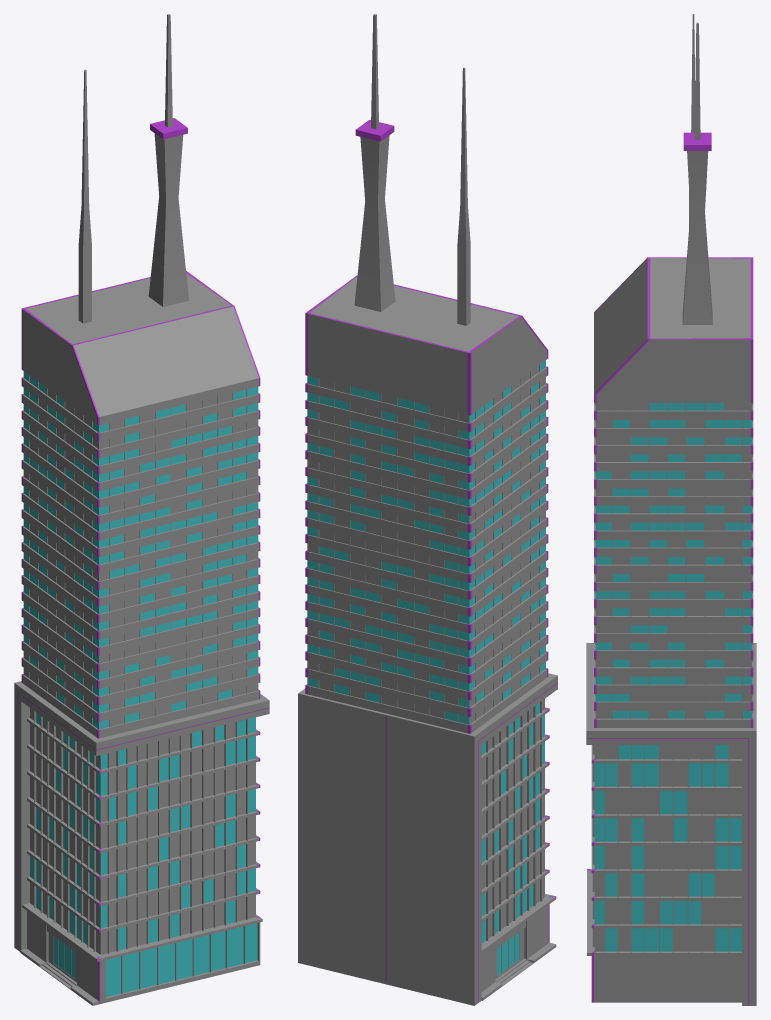
Rendered from BuildingL_01_var3.fbx.
3 renders of one model, left to right at view 1: azimuth 30°, elevation 25°; view 2: azimuth 150°, elevation 25°; view 3: azimuth 270°, elevation 25°, orthographic. The views are drawn at different scales.
Parts seen in each view (by area): view 1: BuildingL_01_var3; view 2: BuildingL_01_var3; view 3: BuildingL_01_var3.
Boxes of the visible parts, x1,y1,x2,y2 form: BuildingL_01_var3: (14, 14, 269, 1005); BuildingL_01_var3: (298, 14, 557, 1005); BuildingL_01_var3: (586, 14, 756, 1005).
Size of the model in its own units: 0.484 by 2.45 by 0.3943.
